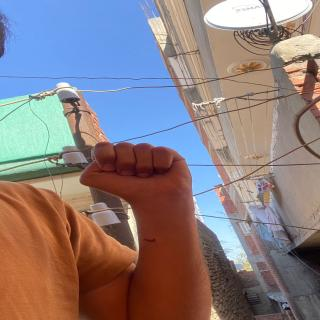SAD: (68, 139, 222, 209)
